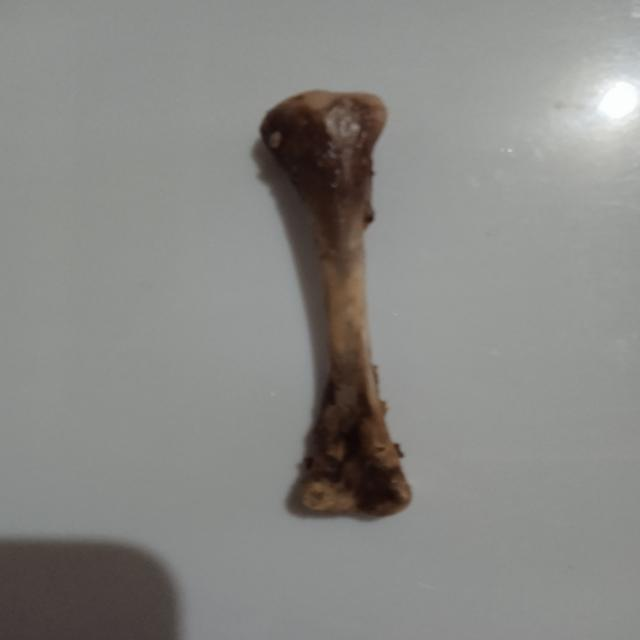bone: (257, 84, 418, 525)
